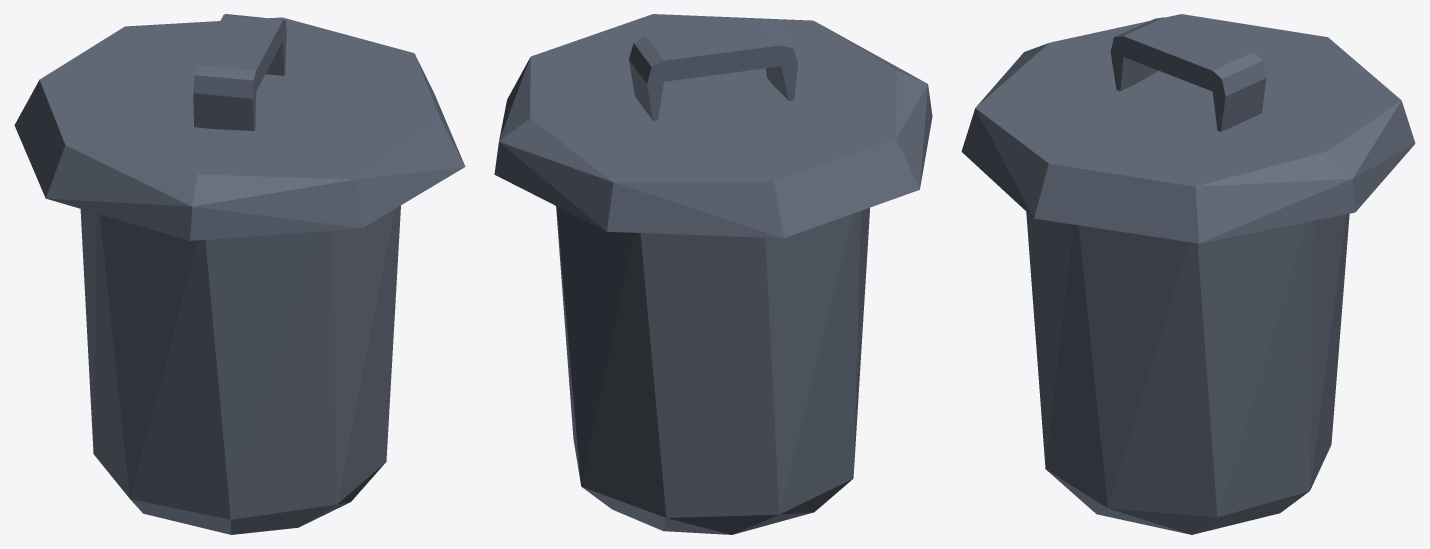
The model's file is Trash Box 2.fbx.
The picture shows the model from 3 angles, left to right: view 1: azimuth 30°, elevation 25°; view 2: azimuth 150°, elevation 25°; view 3: azimuth 270°, elevation 25°; orthographic projection.
Parts seen in each view (by area): view 1: Trash_Box_02; view 2: Trash_Box_02; view 3: Trash_Box_02.
Boxes of the visible parts, left/top/right/bottom form: Trash_Box_02: left=14, top=14, right=465, bottom=534; Trash_Box_02: left=494, top=14, right=932, bottom=534; Trash_Box_02: left=961, top=14, right=1415, bottom=534.
Bounding box in the file's own units: 51.5 × 55.03 × 51.02.
